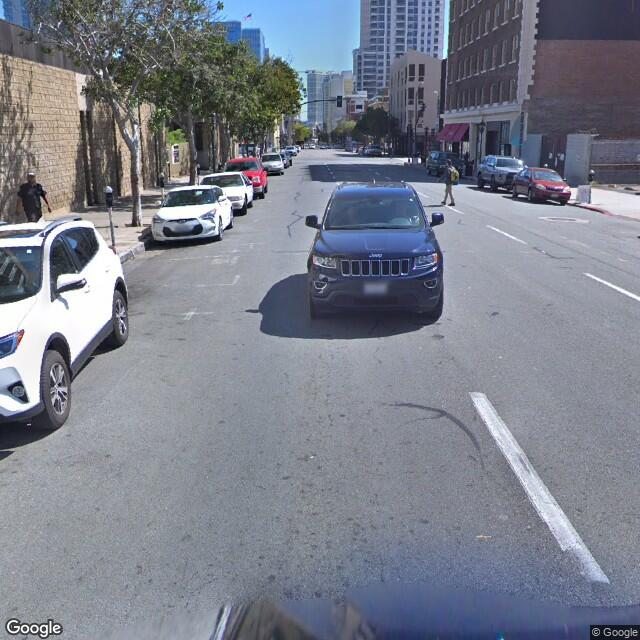road line: (454, 353, 627, 589)
